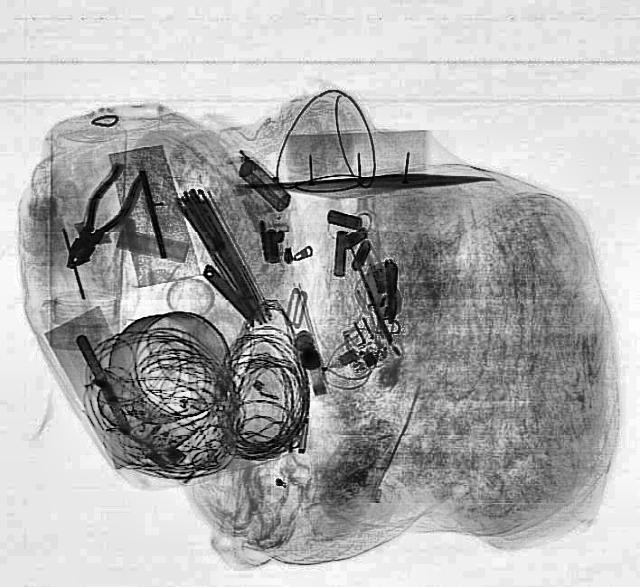Pliers: (50, 160, 150, 276)
